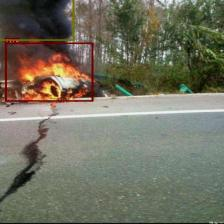fire: (5, 43, 93, 102)
smoke: (0, 0, 74, 41)
